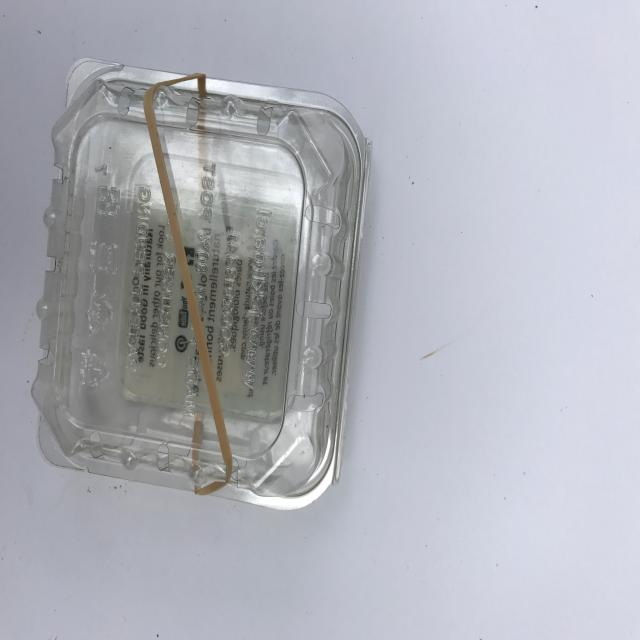plastic: (32, 59, 372, 510)
